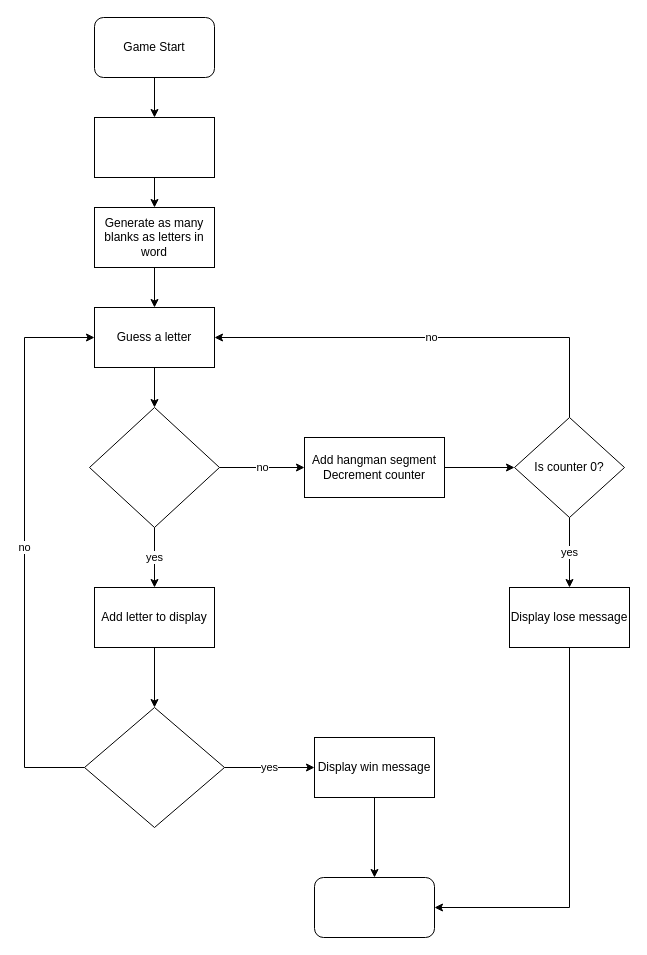
This 647x955 diagram has some shape labels left out. Here are the shapes that lost their labels. From the top down, the centre of each, then its label:
At (154,147): "Generate Random Word".
At (154,467): "Is letter in word?".
At (154,767): "Is word complete?".
At (374,907): "Game end".
